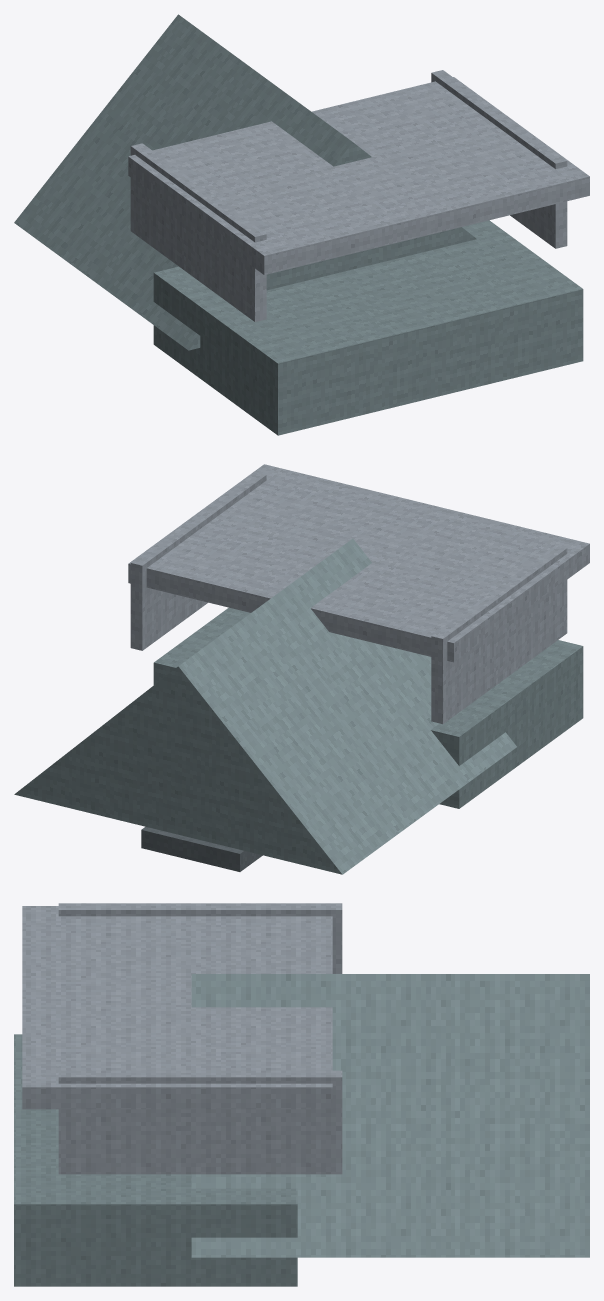
Rendered from level_blockout_ship_hull_bow_section.glb.
3 renders of one model, top to bottom at view 1: azimuth 30°, elevation 25°; view 2: azimuth 150°, elevation 25°; view 3: azimuth 270°, elevation 25°, orthographic. The views are drawn at different scales.
Parts seen in each view (by area): view 1: level_blockout_ship_hull_bow_section; view 2: level_blockout_ship_hull_bow_section; view 3: level_blockout_ship_hull_bow_section.
Part boxes in pixels (left/top/right/bottom): level_blockout_ship_hull_bow_section: left=14, top=14, right=589, bottom=435; level_blockout_ship_hull_bow_section: left=14, top=464, right=589, bottom=874; level_blockout_ship_hull_bow_section: left=14, top=903, right=589, bottom=1286.
Size of the model in its own units: 3.39 by 2 by 4.51.
Materials: 3 (3 with a texture image).
